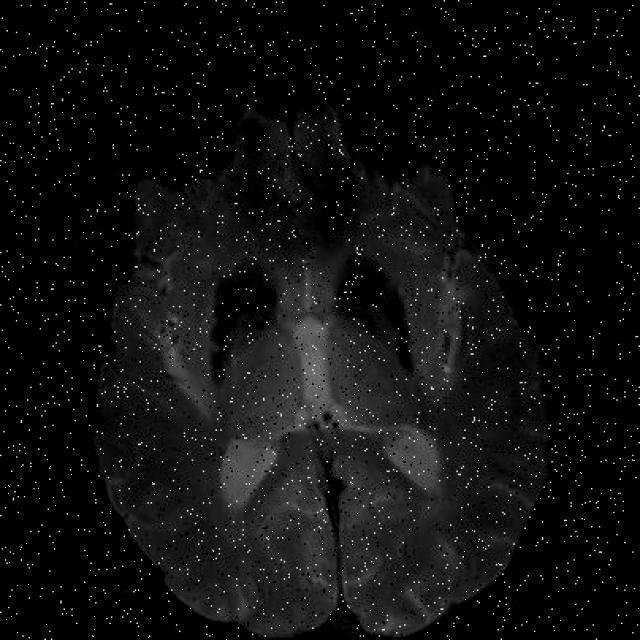EMCI: (187, 230, 290, 374), (334, 245, 398, 352)
